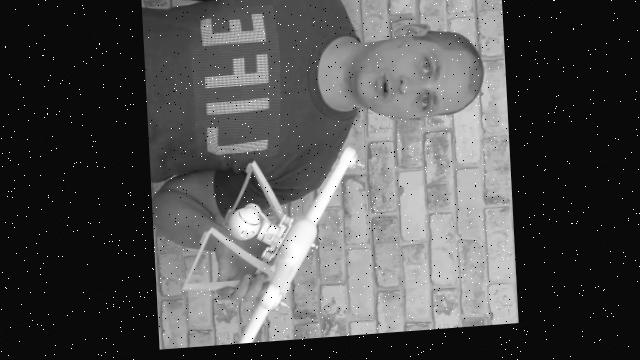drone: (157, 124, 380, 351)
